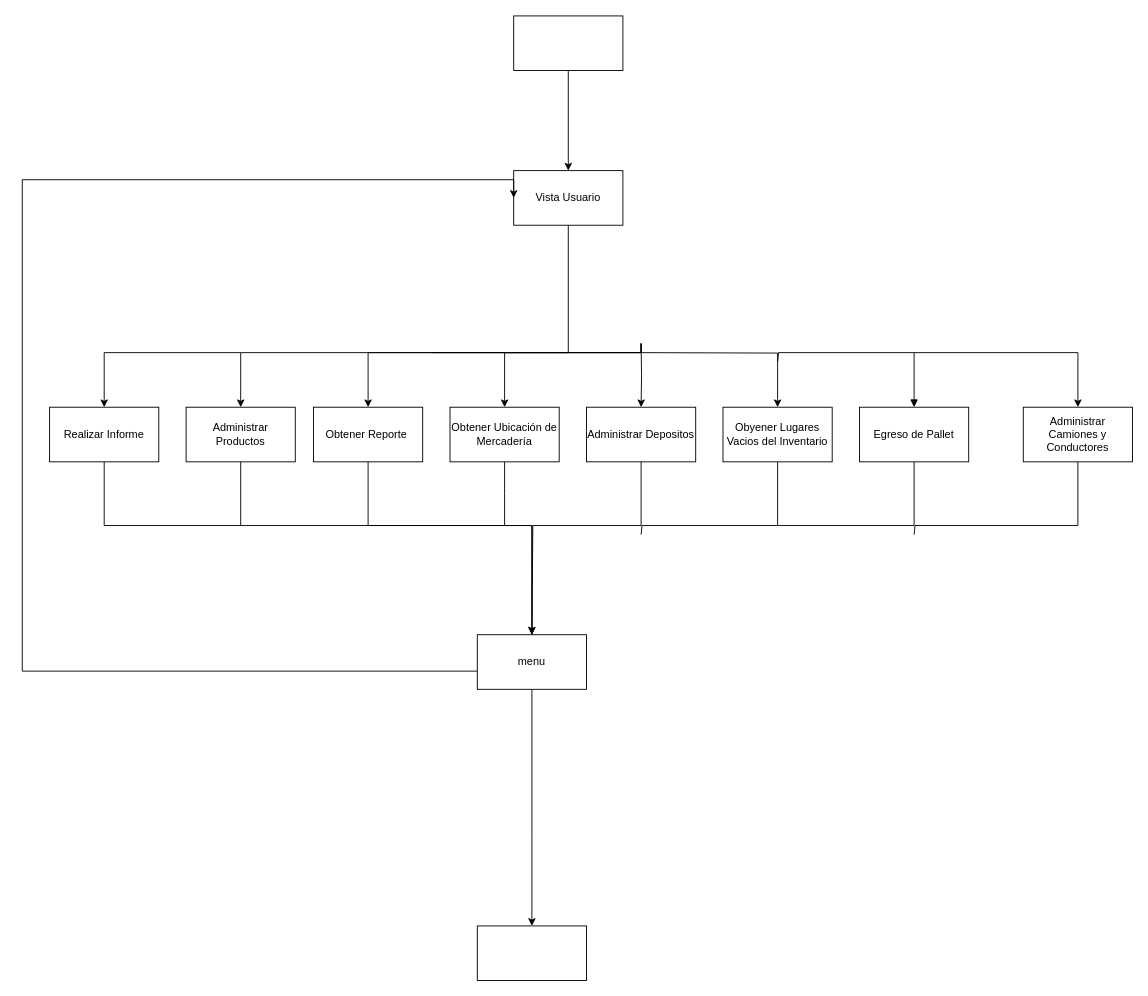
The diagram is 1148 pixels wide and 996 high, and some of its shapes have lost their labels. The shapes that lost their labels are listed below. From the top down, each one's box as (x1, y1, x2, y2) in pixels, then its label:
(513, 15, 623, 71): Inicio
(476, 925, 586, 981): Fin
